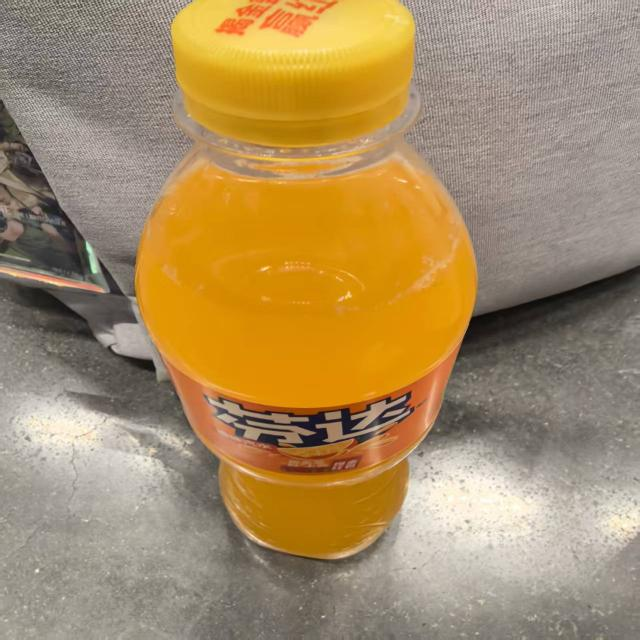orange: (198, 388, 424, 481)
